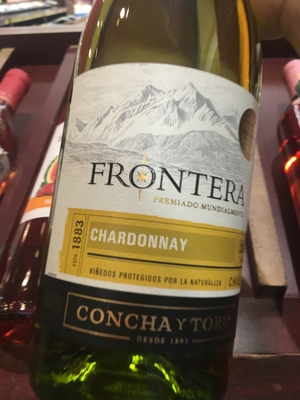frontera chardonnay: (51, 10, 267, 400)
